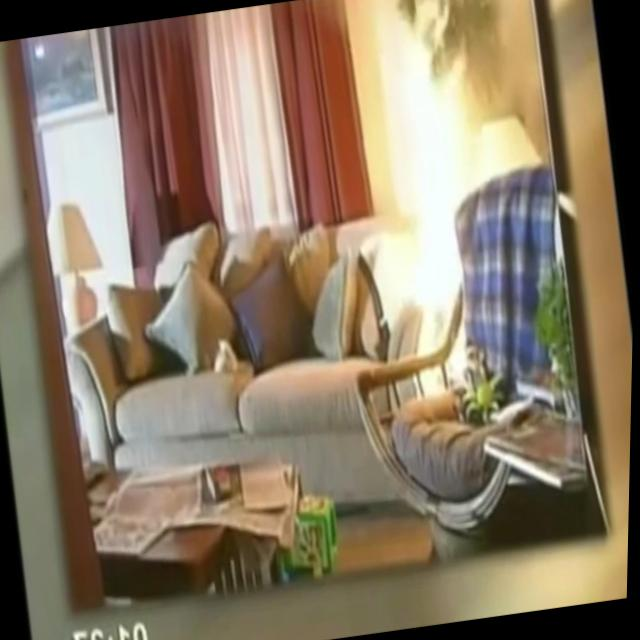fire: (367, 46, 508, 378)
